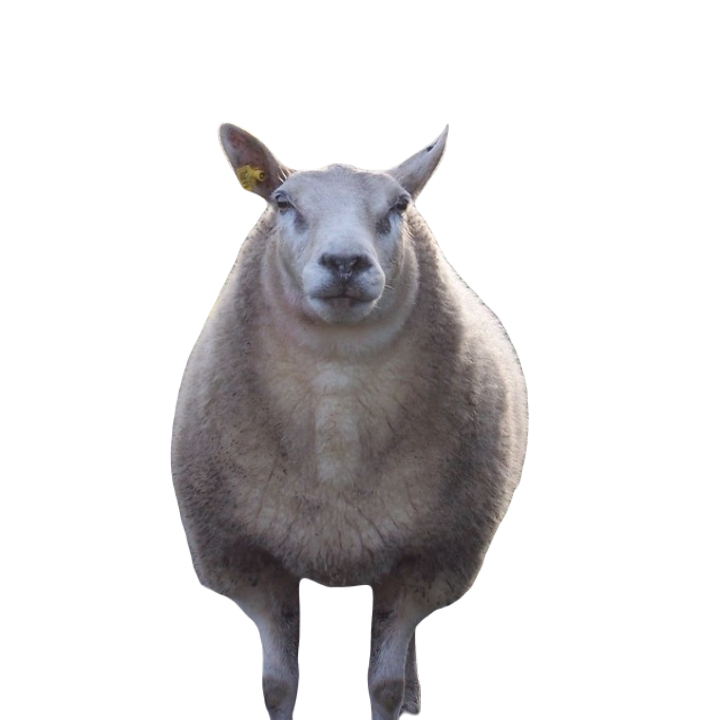Sheep: (157, 114, 533, 719)
